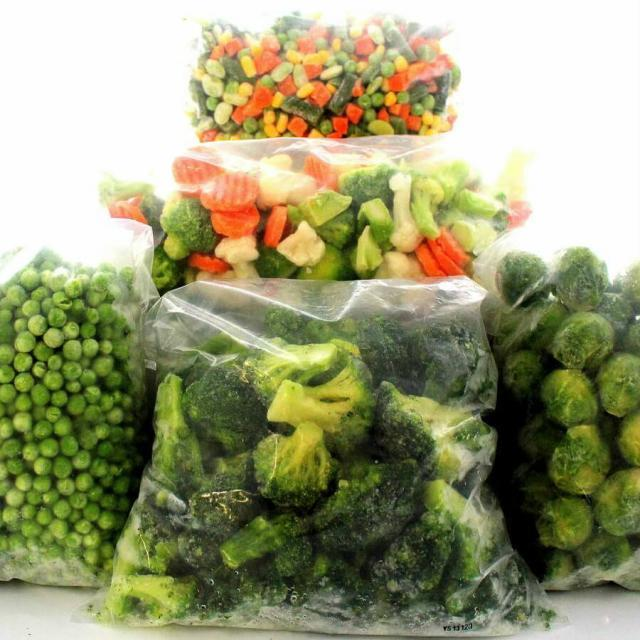Broccoli: (328, 447, 426, 553), (263, 365, 381, 445), (377, 366, 466, 459), (159, 382, 223, 505), (242, 429, 344, 502)
Peas: (4, 298, 91, 580), (12, 292, 88, 536), (13, 432, 114, 522), (55, 317, 117, 433), (21, 268, 89, 356), (3, 362, 38, 434)
